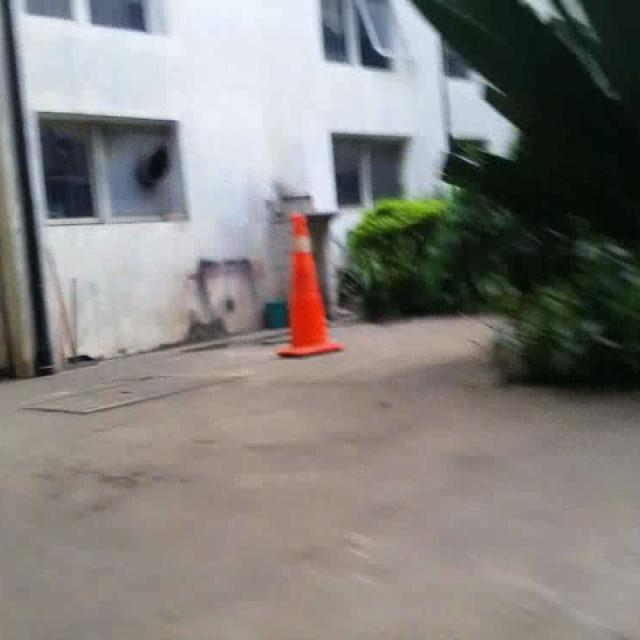cone: (276, 212, 344, 359)
